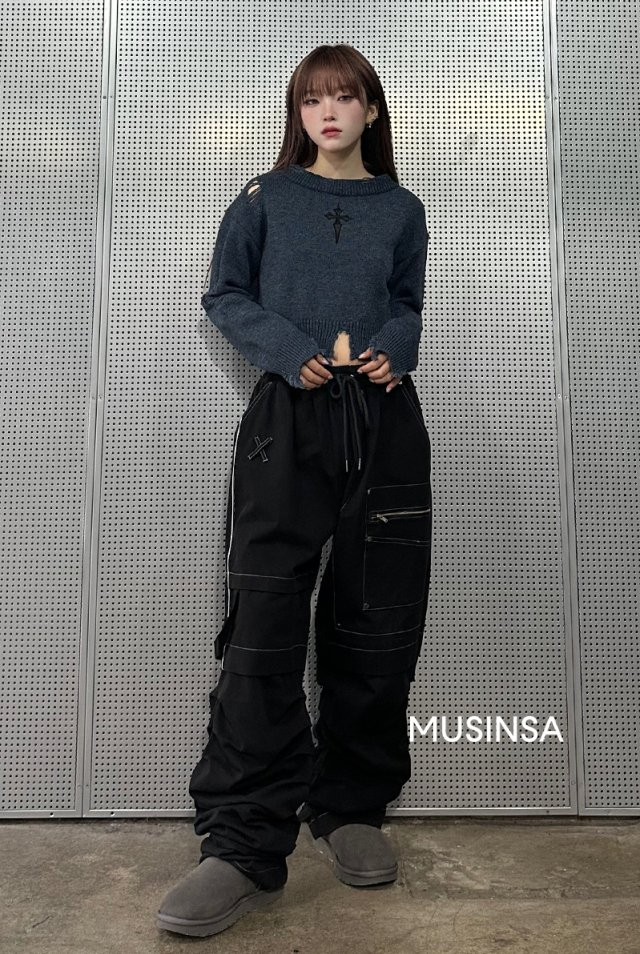Pants: (190, 364, 430, 849)
Shoes: (146, 822, 411, 944)
Top: (210, 157, 434, 382)
